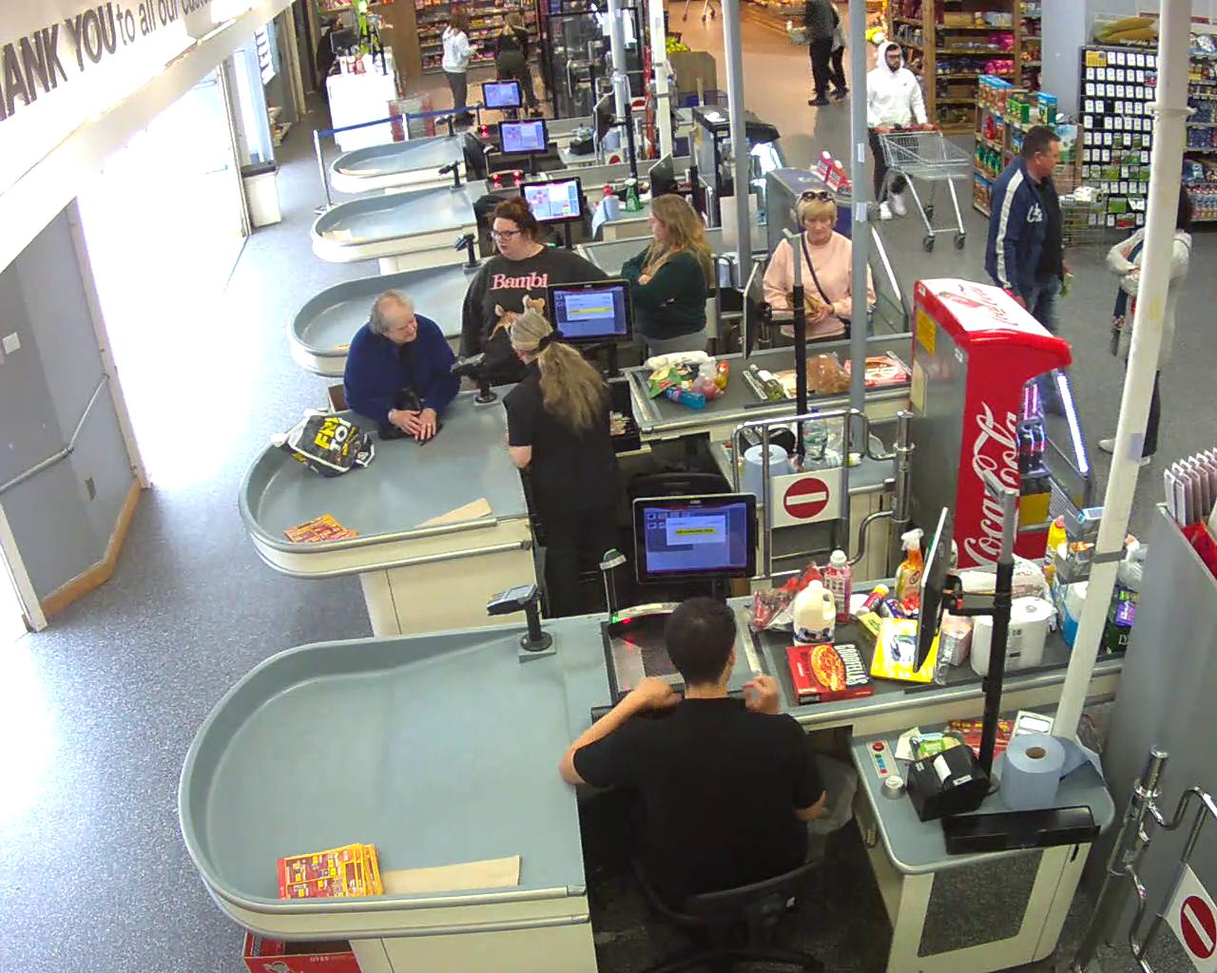empty-trolly: (874, 122, 973, 250)
occupied-checkout-counter: (489, 491, 813, 895), (449, 281, 654, 521)
person: (868, 41, 934, 219)
person-with-empty-basket-trolly: (868, 41, 972, 251)
vacant-checkout-counter: (455, 176, 590, 294), (440, 118, 556, 212), (437, 80, 529, 145)
